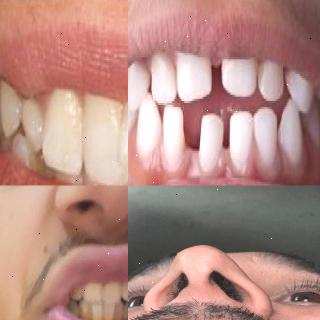maligned: (10, 122, 42, 176), (113, 85, 128, 175), (29, 100, 57, 146)
stains: (78, 299, 90, 320), (103, 302, 115, 320), (92, 303, 104, 320), (114, 303, 125, 320)
